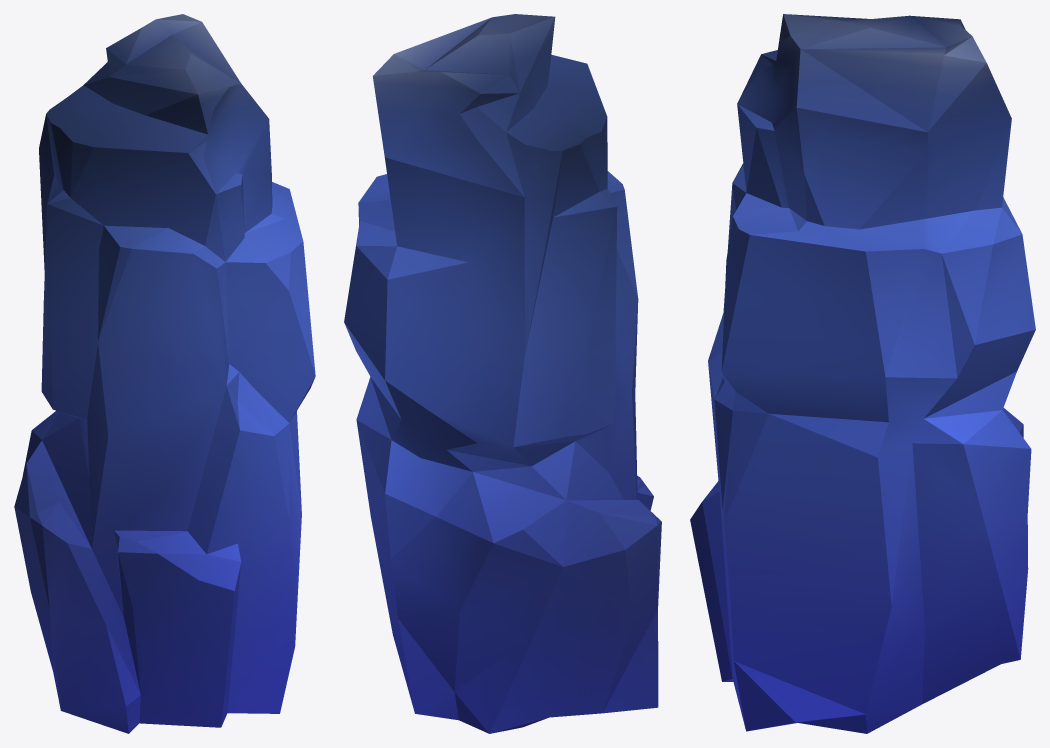
The model's file is Terrain_Mountain_5.fbx.
3 renders of one model, left to right at view 1: azimuth 30°, elevation 25°; view 2: azimuth 150°, elevation 25°; view 3: azimuth 270°, elevation 25°, orthographic. The views are drawn at different scales.
Visible parts, largest first — view 1: terrain_mountain_432_LOD0; view 2: terrain_mountain_432_LOD0; view 3: terrain_mountain_432_LOD0.
Part boxes in pixels (left/top/right/bottom): terrain_mountain_432_LOD0: left=14, top=14, right=315, bottom=733; terrain_mountain_432_LOD0: left=344, top=14, right=661, bottom=733; terrain_mountain_432_LOD0: left=690, top=14, right=1035, bottom=733.
Size of the model in its own units: 1670 by 3751 by 1713.
Materials: 1 (1 with a texture image).
